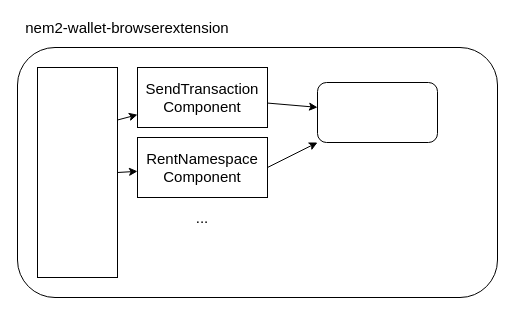
This 515x315 diagram has some shape labels left out. The shapes that lost their labels are listed below. From the top down, each one's box as (x1, y1, x2, y2) in pixels, then its label:
(316, 82, 438, 142): SignTransaction Component
(36, 66, 118, 278): Wallet
